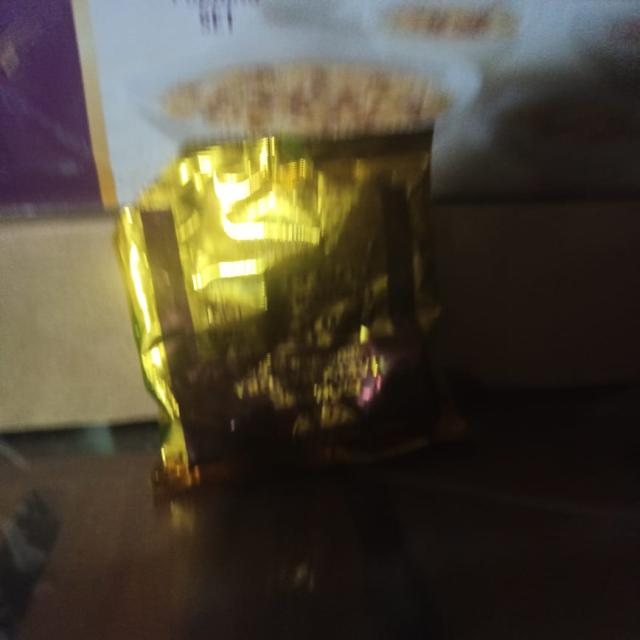Harischandra Coffee: (121, 125, 457, 546)
